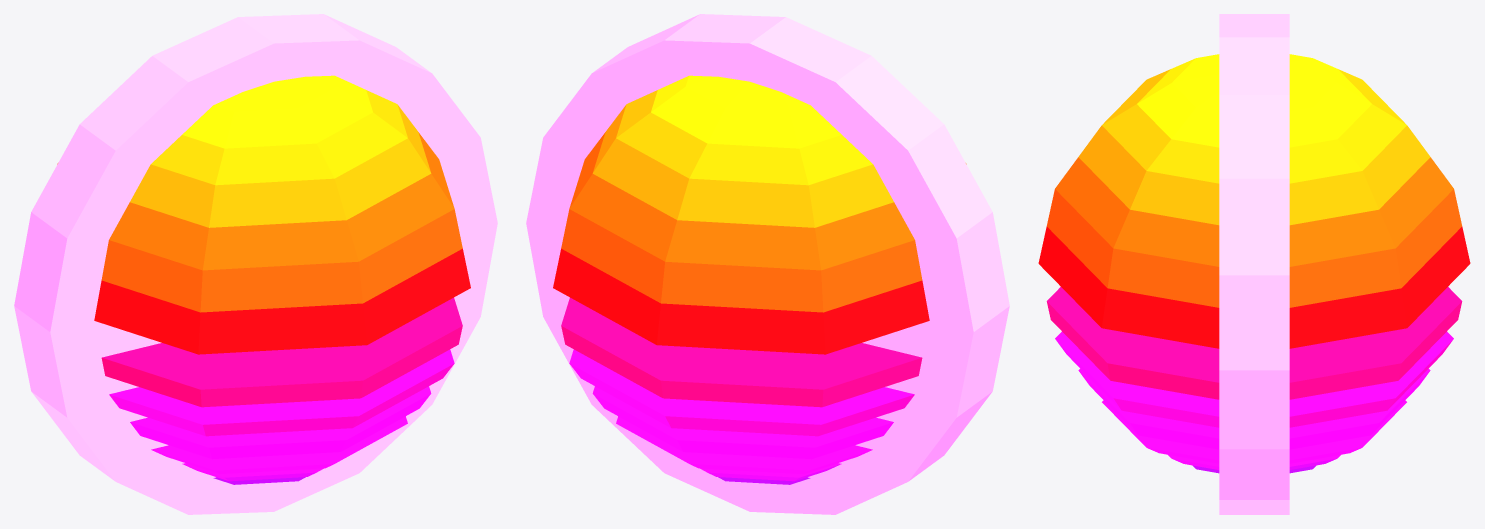
Rendered from Player 2.fbx.
The picture shows the model from 3 angles, left to right: view 1: azimuth 30°, elevation 25°; view 2: azimuth 150°, elevation 25°; view 3: azimuth 270°, elevation 25°; orthographic projection. The views are drawn at different scales.
Parts seen in each view (by area): view 1: Sphere.001; view 2: Sphere.001; view 3: Sphere.001.
Part boxes in pixels (x1,y1,x2,y2): Sphere.001: (14, 14, 497, 514); Sphere.001: (526, 14, 1009, 514); Sphere.001: (1038, 14, 1470, 514).
Bounding box in the file's own units: 232 × 232 × 200.
